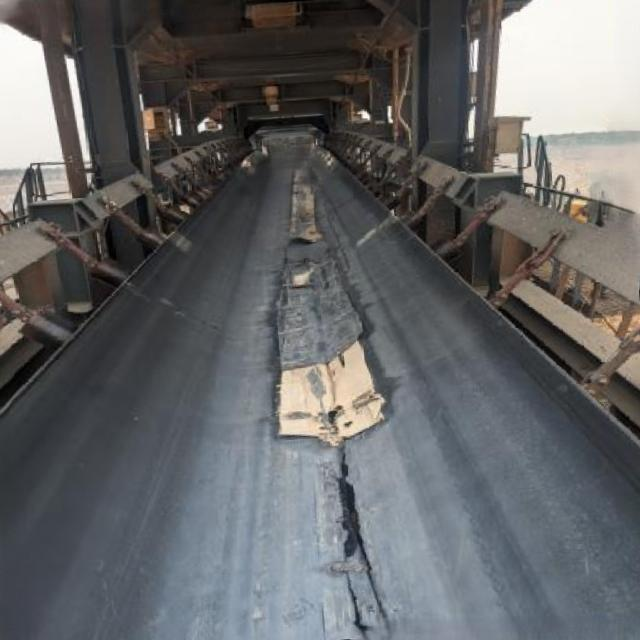Hole: (320, 404, 344, 433)
Tear: (324, 442, 394, 640)
